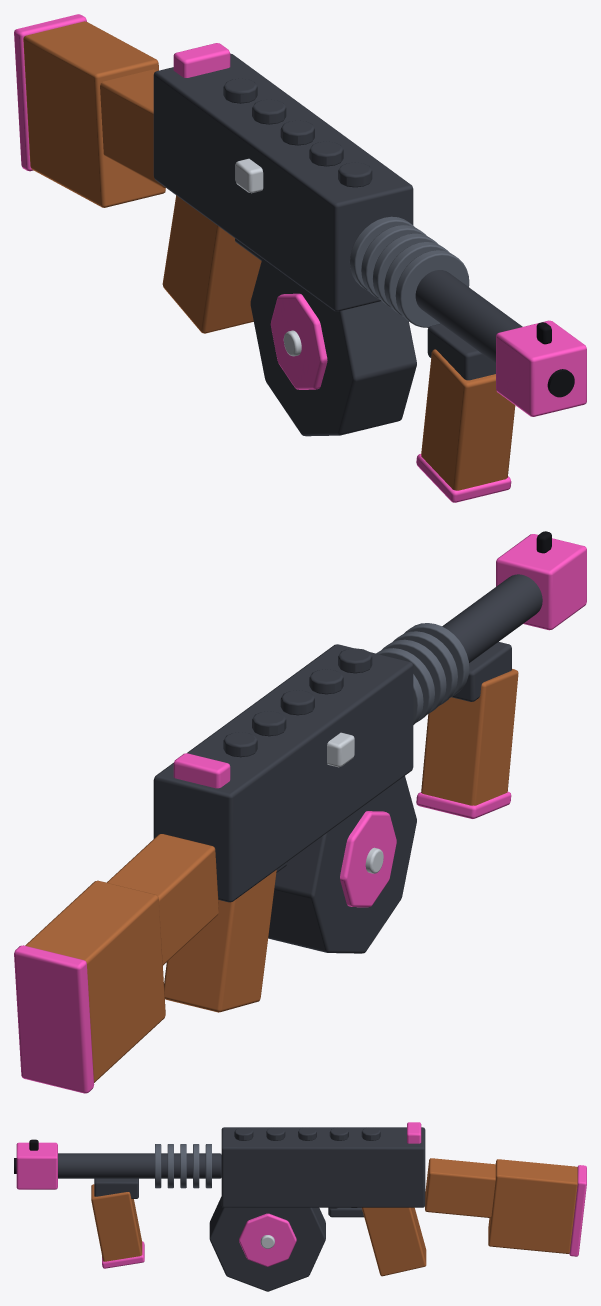
The model's file is Tommy.fbx.
The picture shows the model from 3 angles, top to bottom: view 1: azimuth 30°, elevation 25°; view 2: azimuth 150°, elevation 25°; view 3: azimuth 270°, elevation 25°; orthographic projection. The views are drawn at different scales.
Parts seen in each view (by area): view 1: Tommy_Metal, Tommy_Plastic, Tommy_SmoothPlastic; view 2: Tommy_Metal, Tommy_Plastic, Tommy_SmoothPlastic; view 3: Tommy_Metal, Tommy_Plastic, Tommy_SmoothPlastic.
Boxes of the visible parts, x1,y1,x2,y2 form: Tommy_Metal: [153, 53, 522, 436]; Tommy_Plastic: [23, 21, 515, 490]; Tommy_SmoothPlastic: [14, 14, 586, 502]; Tommy_Metal: [153, 574, 542, 953]; Tommy_Plastic: [25, 669, 518, 1082]; Tommy_SmoothPlastic: [14, 531, 586, 1093]; Tommy_Metal: [58, 1127, 425, 1291]; Tommy_Plastic: [91, 1158, 577, 1276]; Tommy_SmoothPlastic: [14, 1122, 586, 1268].
Bounding box in the file's own units: 0.395 × 1.08 × 3.6.
Materials: 3 (3 with a texture image).
